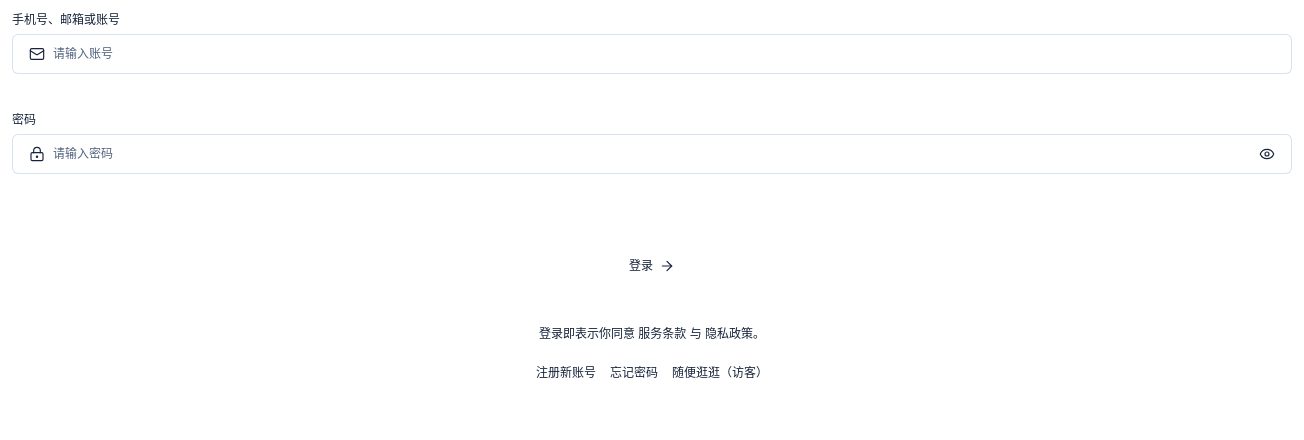
Test case: AuthForm › 注册模式校验昵称/密码
Click the button "注册新账号" at (566, 373), box [536, 356, 596, 389]
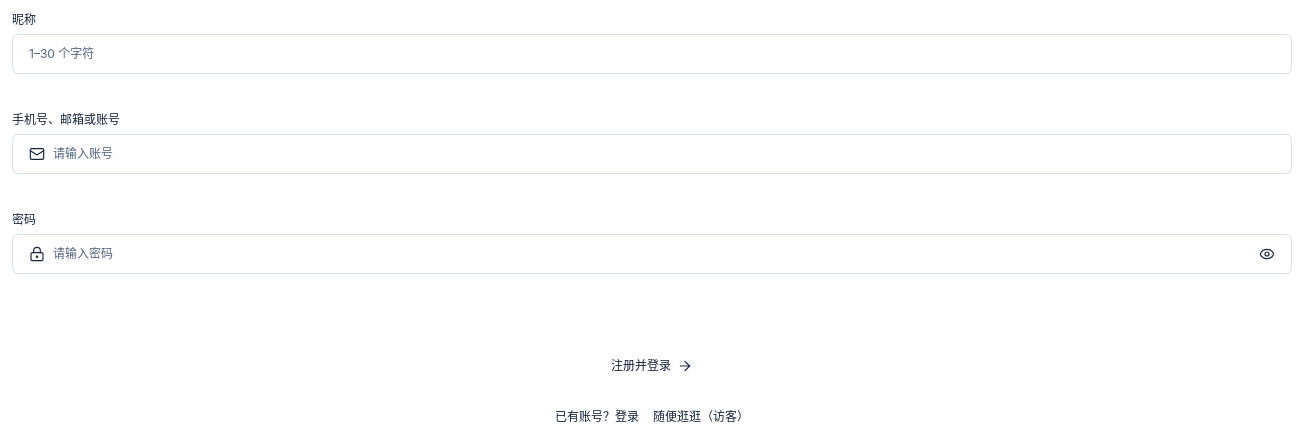
Click the button "注册并登录" at (652, 366), box [12, 344, 1292, 388]
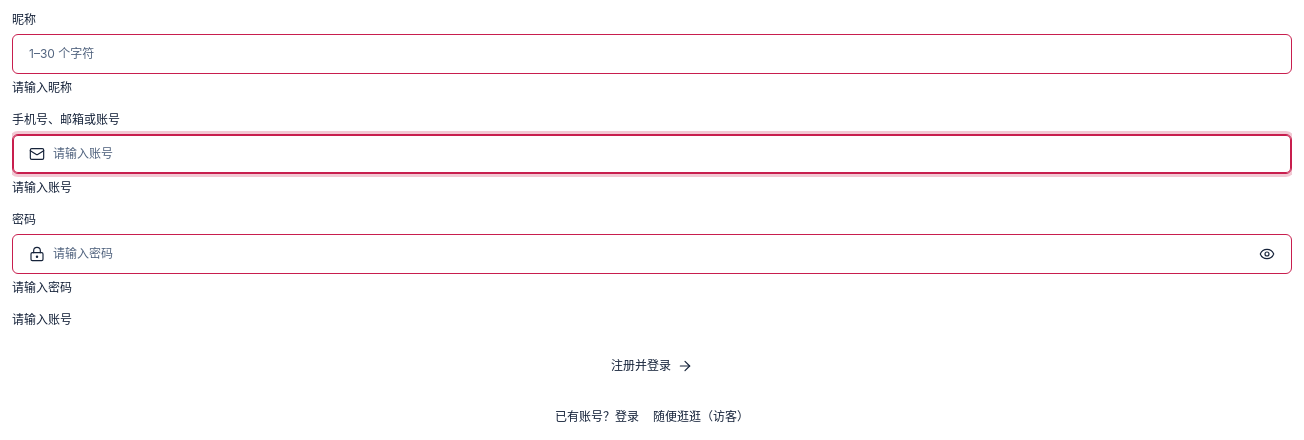
Expected: the text "请输入昵称" is shown, [12, 80, 72, 95]
Expected: the text "请输入账号" below "手机号、邮箱或账号" is shown, [12, 180, 72, 195]
Expected: the text "请输入密码" is shown, [12, 280, 72, 295]
